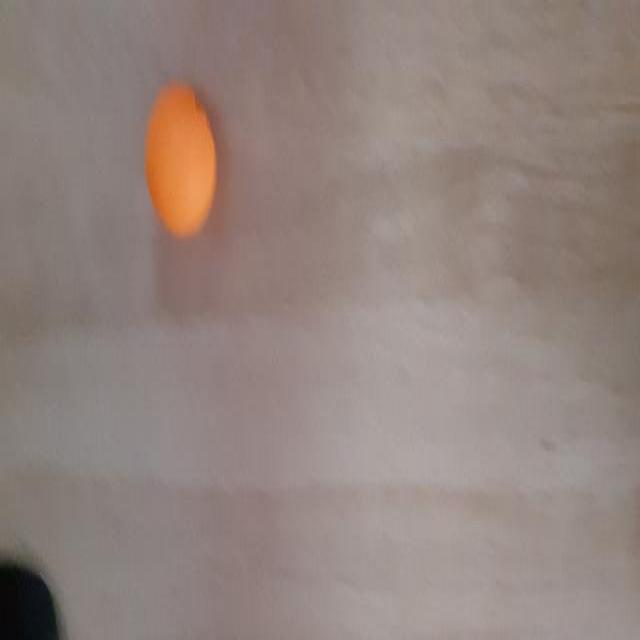oball: (143, 86, 214, 235)
